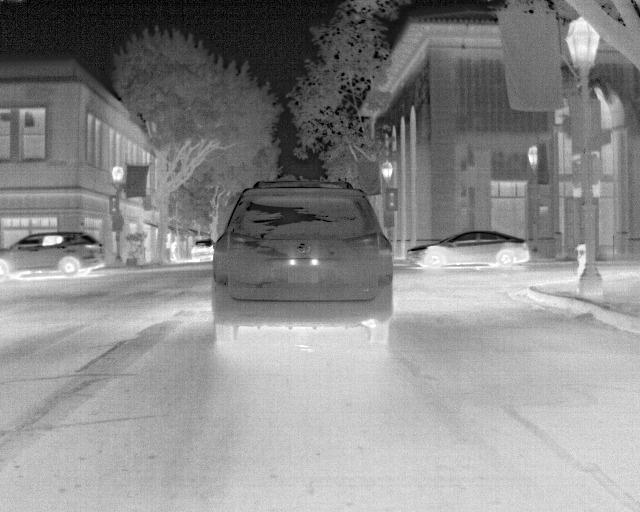bicycle: (213, 176, 393, 343), (404, 229, 530, 271), (1, 229, 105, 277), (188, 239, 214, 263)
